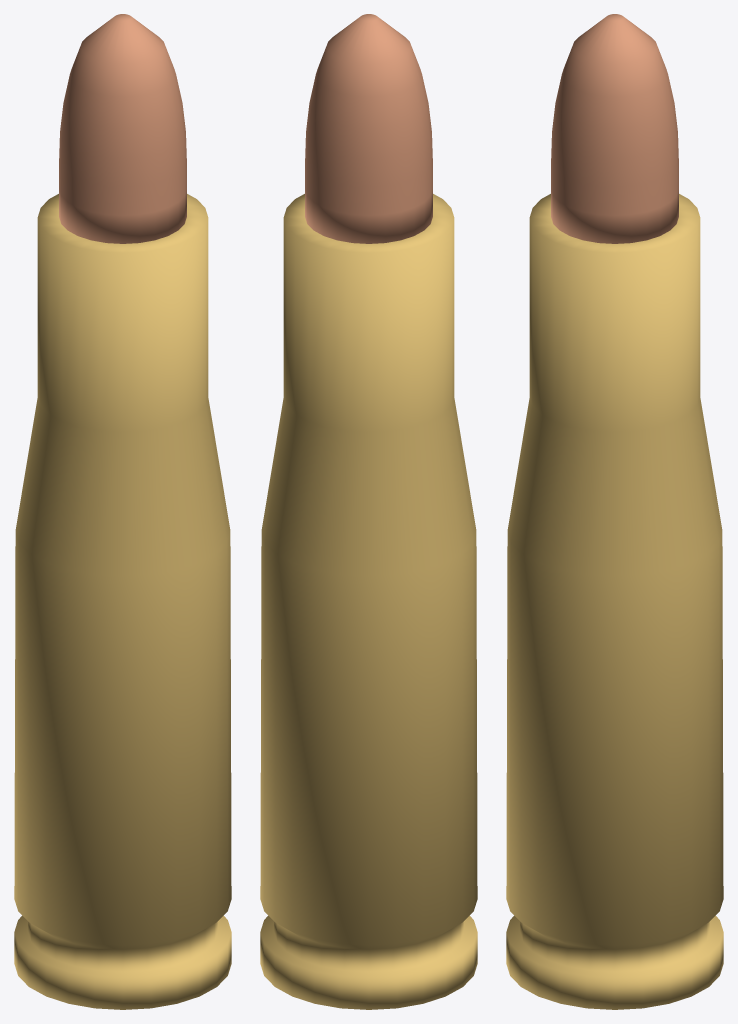
Rendered from 46x30_std.glb.
The picture shows the model from 3 angles, left to right: view 1: azimuth 30°, elevation 25°; view 2: azimuth 150°, elevation 25°; view 3: azimuth 270°, elevation 25°; orthographic projection.
Parts seen in each view (by area): view 1: vaina, bala; view 2: vaina, bala; view 3: vaina, bala.
Part boxes in pixels (x1=…): vaina: x1=14, y1=194, x2=231, y2=1009; bala: x1=59, y1=14, x2=186, y2=243; vaina: x1=260, y1=194, x2=477, y2=1009; bala: x1=305, y1=14, x2=432, y2=243; vaina: x1=506, y1=194, x2=723, y2=1009; bala: x1=551, y1=14, x2=678, y2=243.
Bounding box in the file's own units: 0.0079 × 0.038 × 0.0079.
